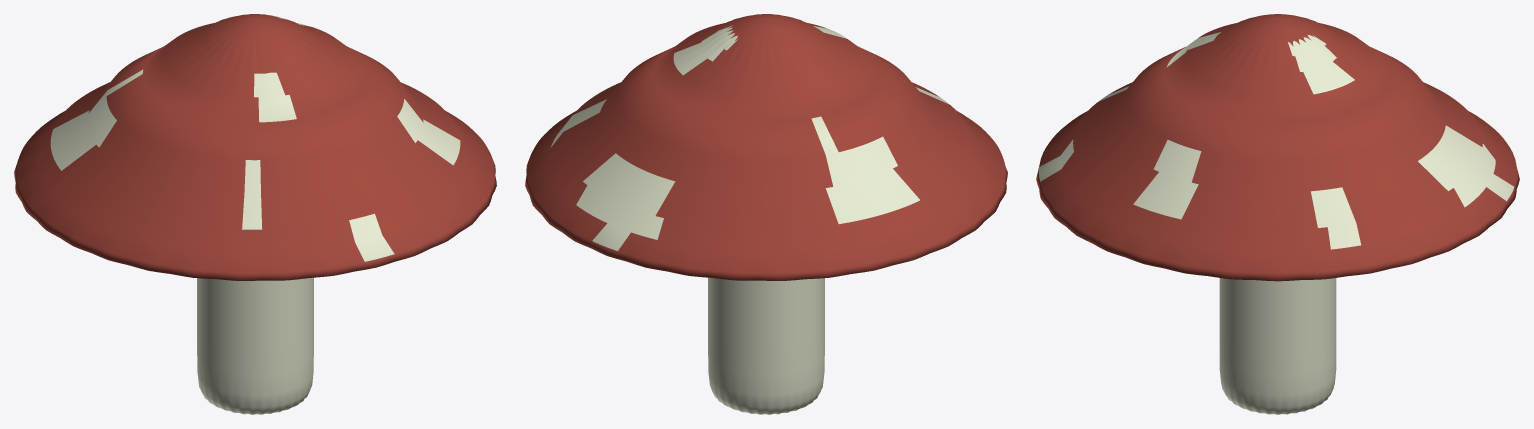
File: grybas01.glb
The picture shows the model from 3 angles, left to right: view 1: azimuth 30°, elevation 25°; view 2: azimuth 150°, elevation 25°; view 3: azimuth 270°, elevation 25°; orthographic projection.
Parts seen in each view (by area): view 1: Mushroom01; view 2: Mushroom01; view 3: Mushroom01.
Boxes of the visible parts, x1=… form: Mushroom01: x1=14, y1=14, x2=496, y2=414; Mushroom01: x1=525, y1=14, x2=1007, y2=414; Mushroom01: x1=1036, y1=14, x2=1519, y2=414.
Size of the model in its own units: 0.7176 by 0.6255 by 0.7176.
